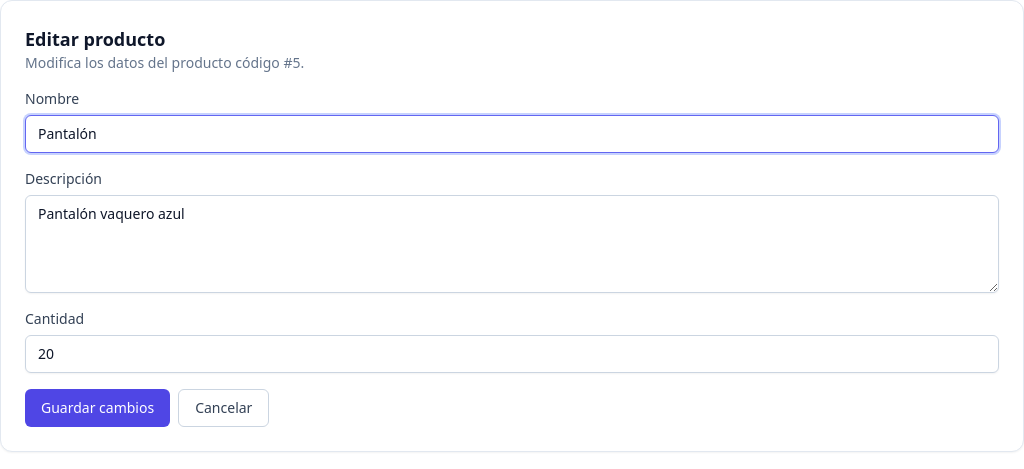
ProductForm › edit mode › cancels editing and resets the form
Click the button "Cancelar" at (224, 408), box [178,389,269,427]
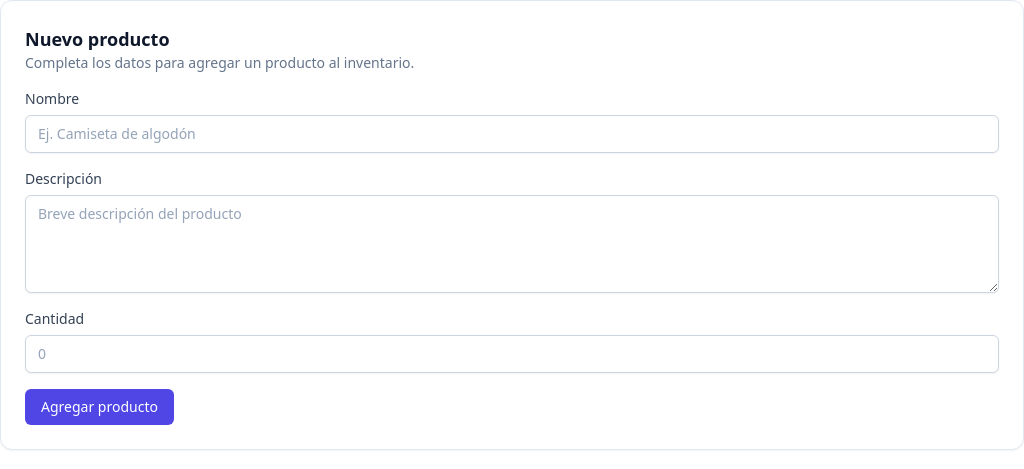
Expected: the field labelled "Nombre" is empty, [25,115,999,153]
Expected: the heading "Nuevo producto" is shown, [25,27,170,51]
